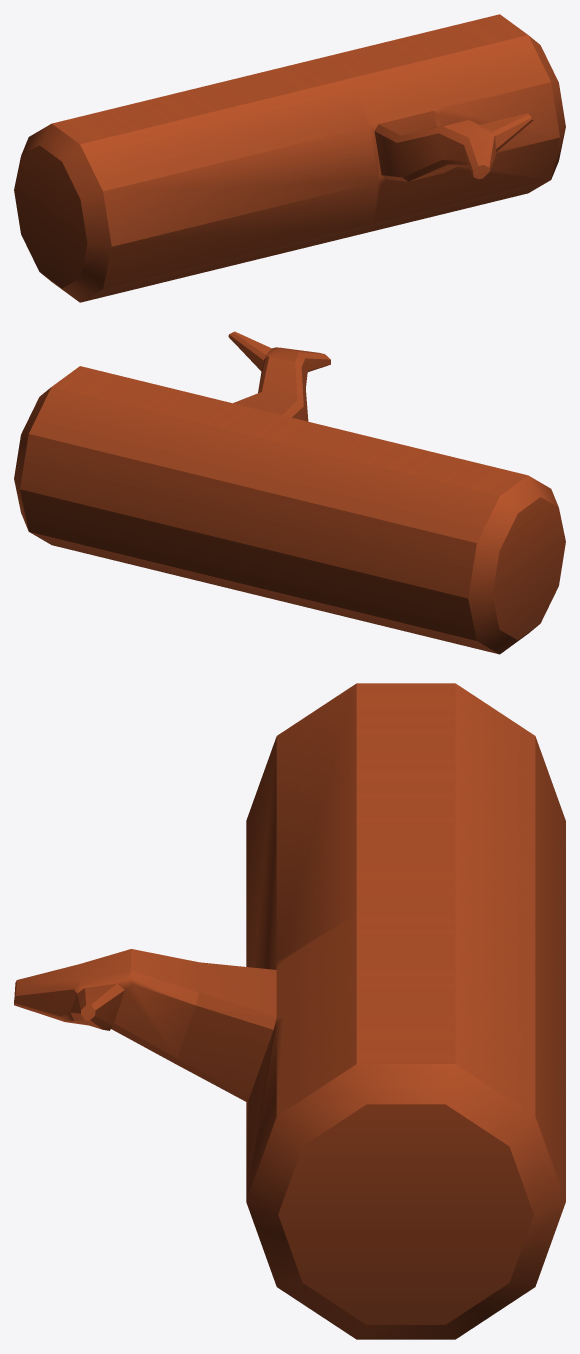
Rendered from Forest Log.fbx.
The picture shows the model from 3 angles, top to bottom: view 1: azimuth 30°, elevation 25°; view 2: azimuth 150°, elevation 25°; view 3: azimuth 270°, elevation 25°; orthographic projection. The views are drawn at different scales.
Visible parts, largest first — view 1: polySurface76; view 2: polySurface76; view 3: polySurface76.
Boxes of the visible parts, x1,y1,x2,y2 form: polySurface76: (14, 14, 565, 302); polySurface76: (14, 331, 565, 654); polySurface76: (14, 683, 565, 1339).
Bounding box in the file's own units: 4.35 × 1.38 × 2.5.
1 material, 1 textured.
